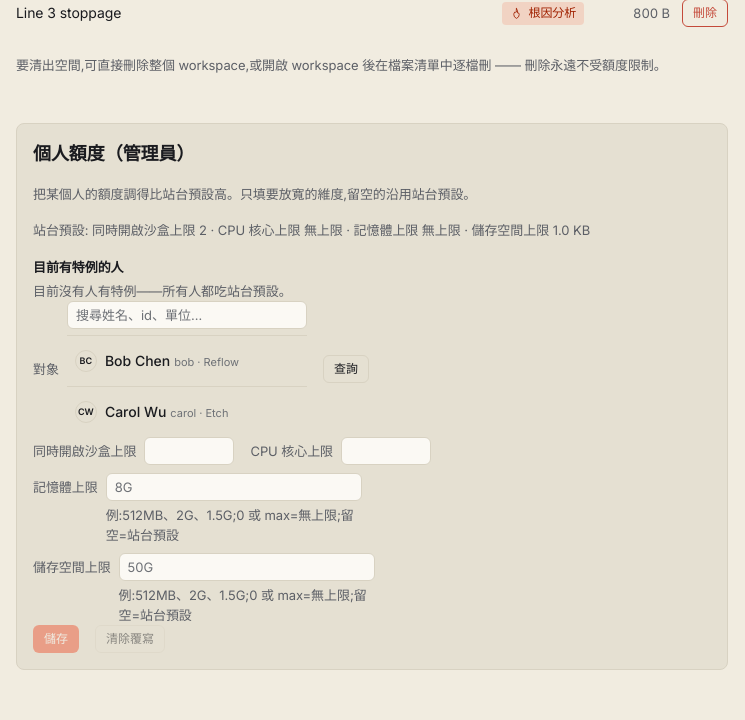
per-person overrides (superuser) › says why the server refused an exception, and does not claim it applied
(page scrolled)
Click the button "BC Bob Chen bob · Reflow": (187, 361) 67,344 -> 307,378
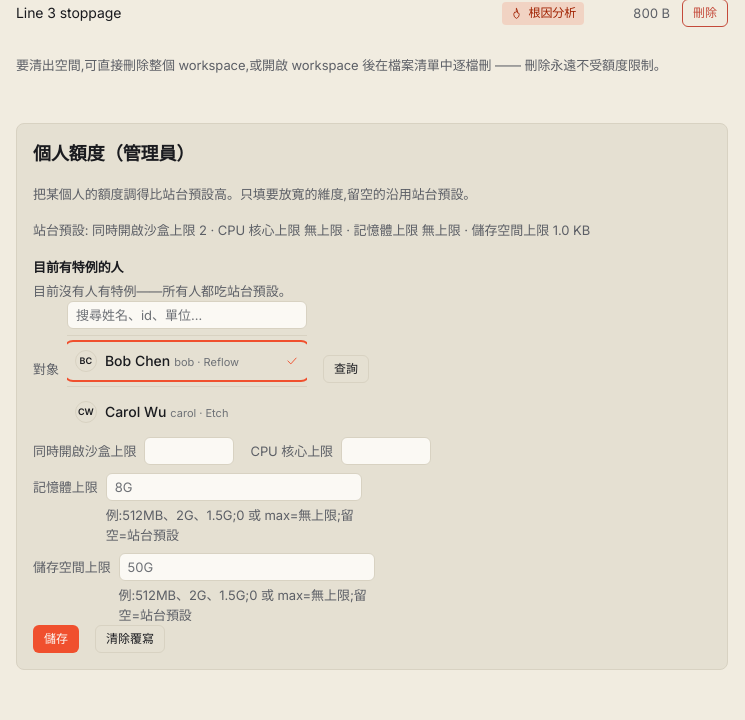
In the number field labelled "同時開啟沙盒上限": (190, 451) 144,437 -> 234,465, type "5"
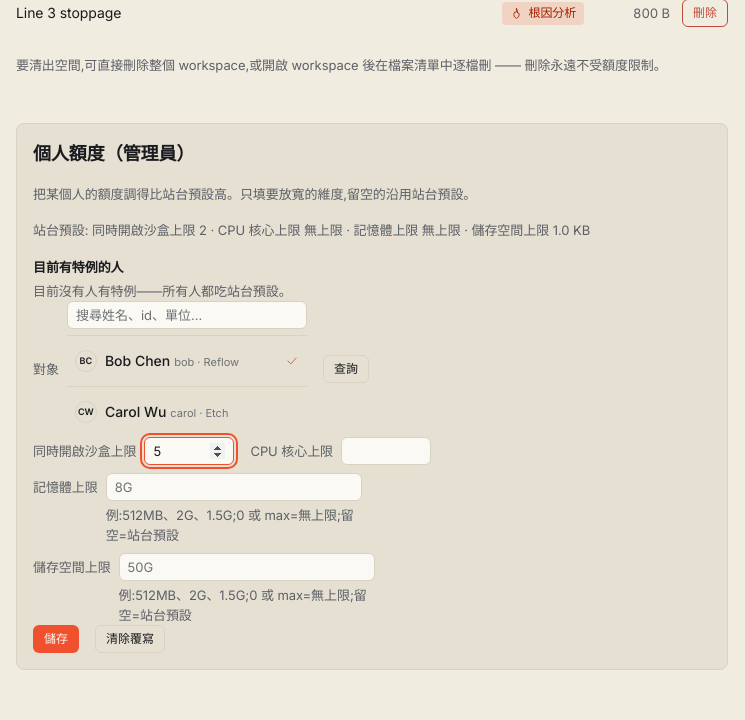
Click the button "儲存": (56, 639) 33,625 -> 79,653
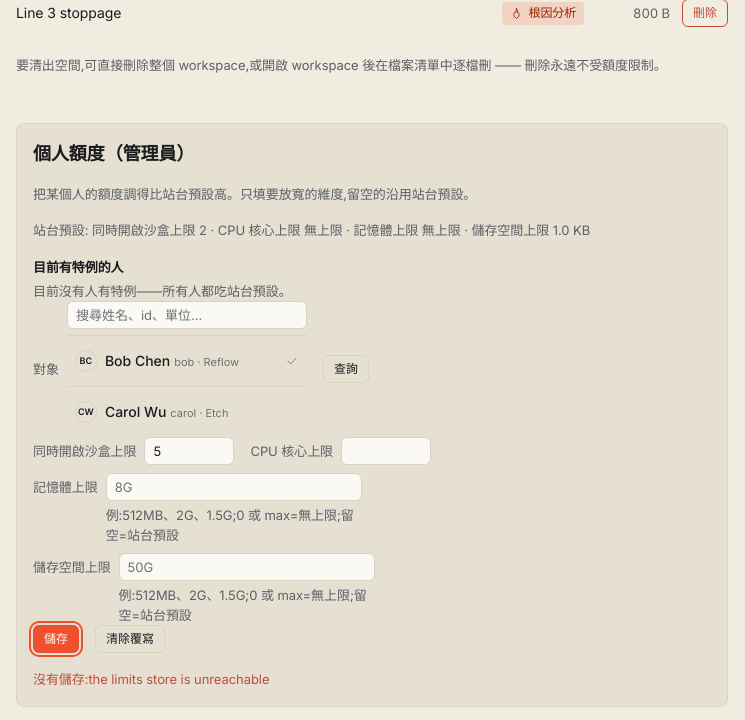
Expected: the message shows "the limits store is unreachable", 33,671 -> 269,687
